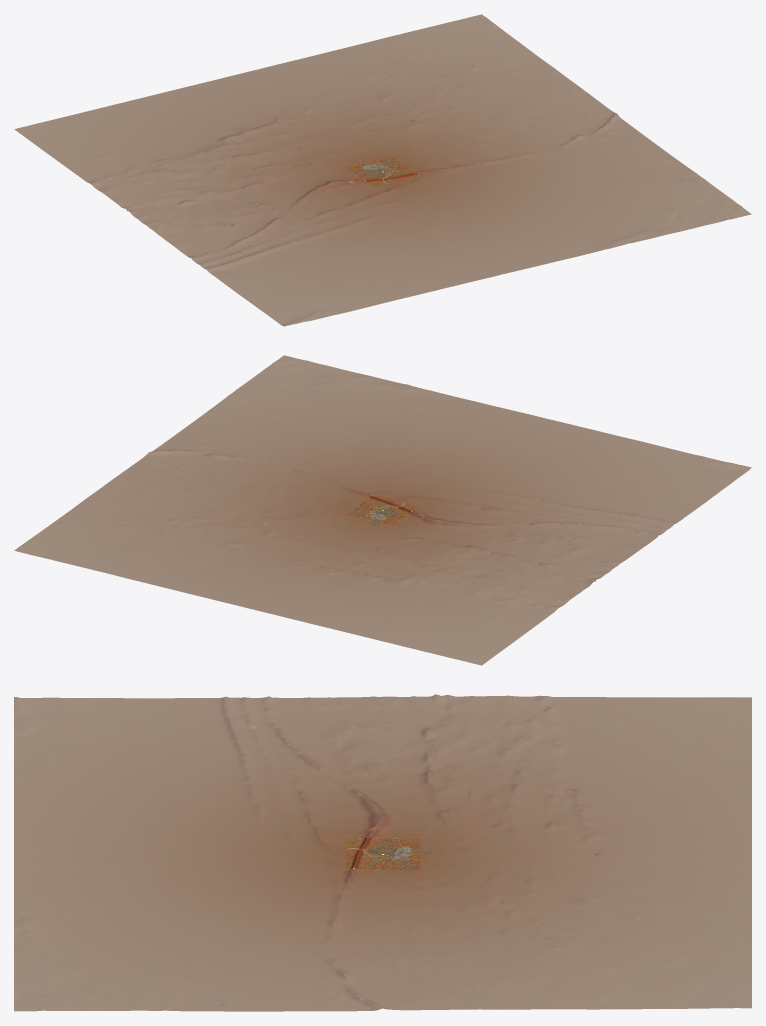
The model's file is traeger_backdrop_part1.glb.
3 views of the same model, one above another, from view 1: azimuth 30°, elevation 25°; view 2: azimuth 150°, elevation 25°; view 3: azimuth 270°, elevation 25° (orthographic). The views are drawn at different scales.
Visible parts, largest first — view 1: bg_far_terrain, bg_near_ground; view 2: bg_far_terrain, bg_near_ground; view 3: bg_far_terrain, bg_near_ground.
Boxes of the visible parts, x1=… form: bg_far_terrain: x1=14, y1=14, x2=751, y2=326; bg_near_ground: x1=346, y1=156, x2=419, y2=187; bg_far_terrain: x1=14, y1=355, x2=751, y2=665; bg_near_ground: x1=346, y1=495, x2=419, y2=525; bg_far_terrain: x1=14, y1=694, x2=751, y2=1011; bg_near_ground: x1=346, y1=837, x2=419, y2=870.
Bounding box in the file's own units: 60001 × 483 × 60001.
14 materials, 10 textured.
